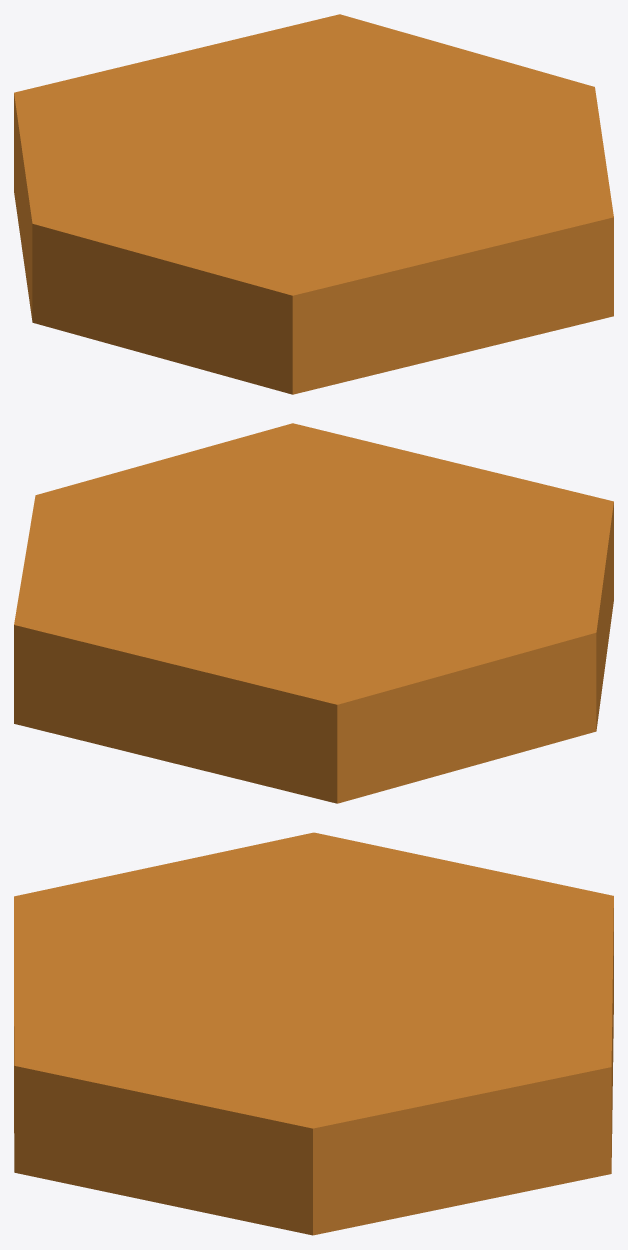
Rendered from rock.fbx.
3 renders of one model, top to bottom at view 1: azimuth 30°, elevation 25°; view 2: azimuth 150°, elevation 25°; view 3: azimuth 270°, elevation 25°, orthographic. The views are drawn at different scales.
Parts seen in each view (by area): view 1: Cube; view 2: Cube; view 3: Cube.
Boxes of the visible parts, x1=… form: Cube: x1=14, y1=14, x2=613, y2=394; Cube: x1=14, y1=423, x2=613, y2=803; Cube: x1=14, y1=832, x2=613, y2=1235.
Size of the model in its own units: 495 by 83.38 by 424.
